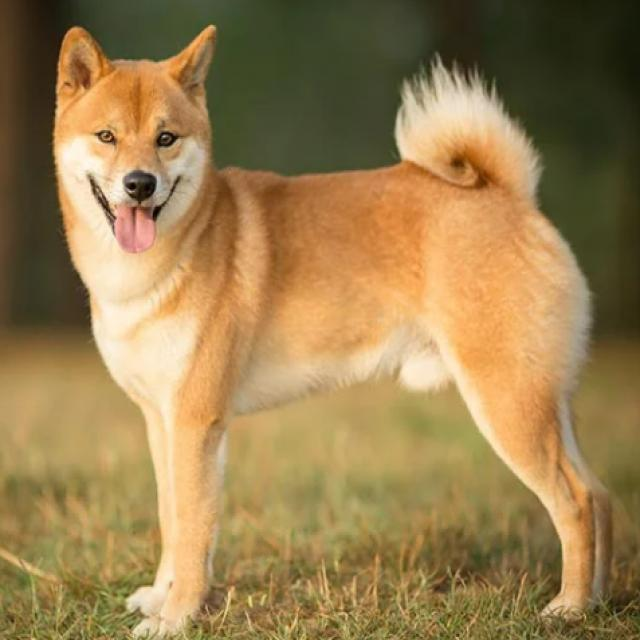Shiba Inu: (52, 21, 610, 636)
